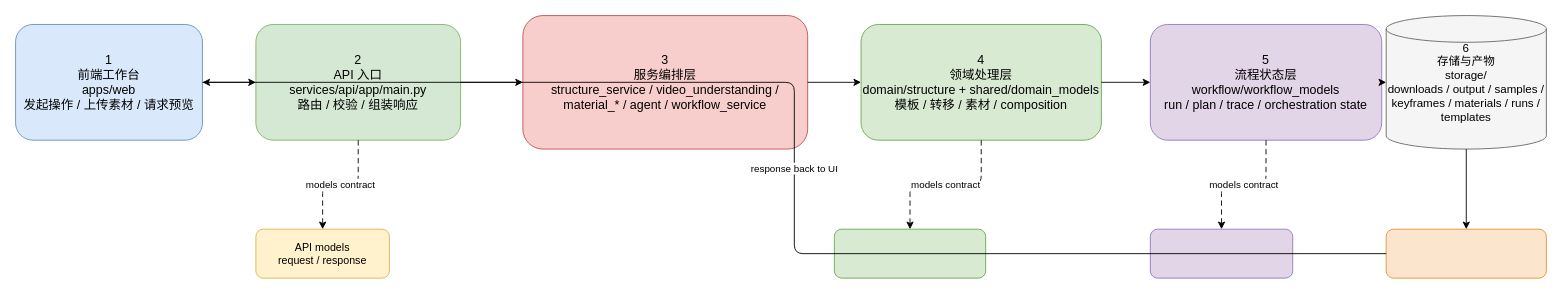
The diagram is 1562 pixels wide and 294 high, and some of its shapes have lost their labels. Each missing label, with the centre of its shape:
"Domain models structure / material / composition" belongs at (909,253).
"response / preview / run result" belongs at (1465,253).
"Workflow models run / trace / state" belongs at (1221,253).
